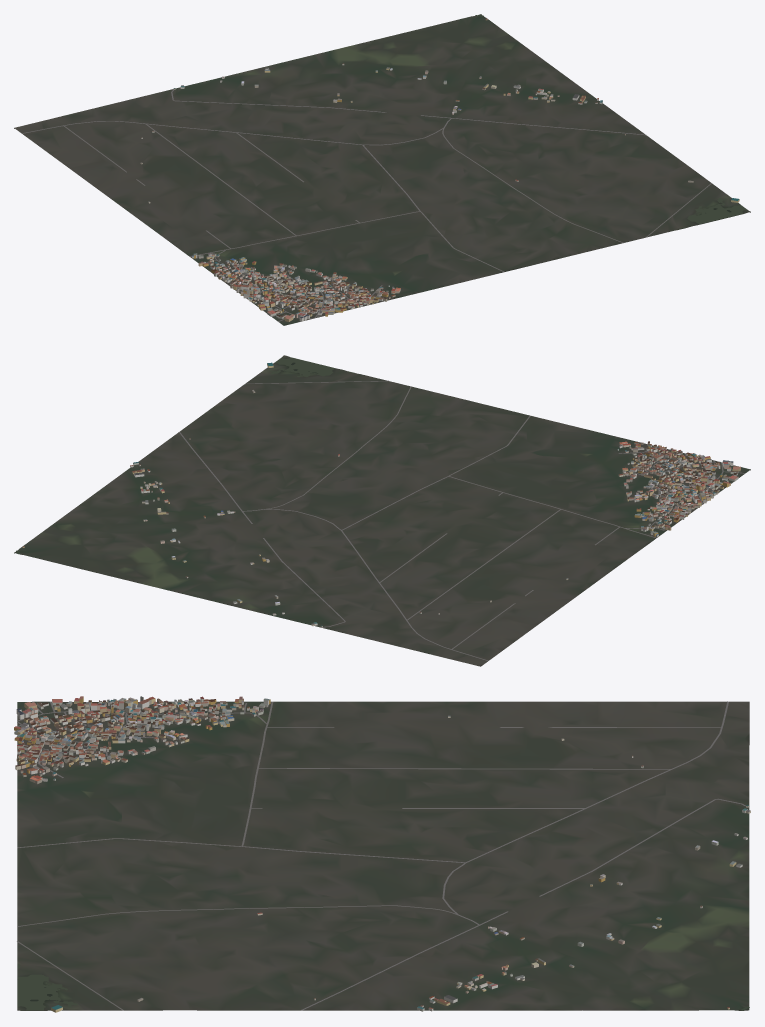
3 views of the same model, one above another, from view 1: azimuth 30°, elevation 25°; view 2: azimuth 150°, elevation 25°; view 3: azimuth 270°, elevation 25° (orthographic). The views are drawn at different scales.
Visible parts, largest first — view 1: ground, buildings, roads, water; view 2: ground, buildings, roads, water; view 3: ground, buildings, roads, water.
Part boxes in pixels (x1=…): ground: x1=14, y1=14, x2=750, y2=325; buildings: x1=140, y1=18, x2=739, y2=321; roads: x1=22, y1=89, x2=711, y2=321; water: x1=475, y1=15, x2=746, y2=229; ground: x1=14, y1=355, x2=750, y2=666; buildings: x1=22, y1=362, x2=740, y2=627; roads: x1=179, y1=380, x2=744, y2=660; water: x1=16, y1=357, x2=354, y2=554; ground: x1=17, y1=701, x2=749, y2=1010; buildings: x1=14, y1=696, x2=750, y2=1012; roads: x1=17, y1=701, x2=749, y2=1010; water: x1=17, y1=963, x2=749, y2=1010.
Bounding box in the file's own units: 1415 × 17.89 × 1411.
